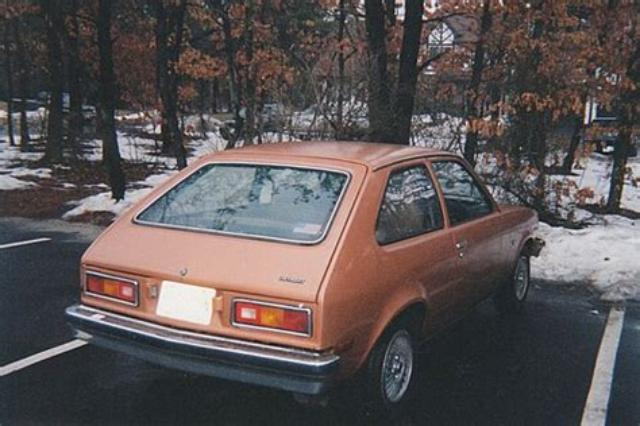chevette-1983: (65, 142, 544, 416)
